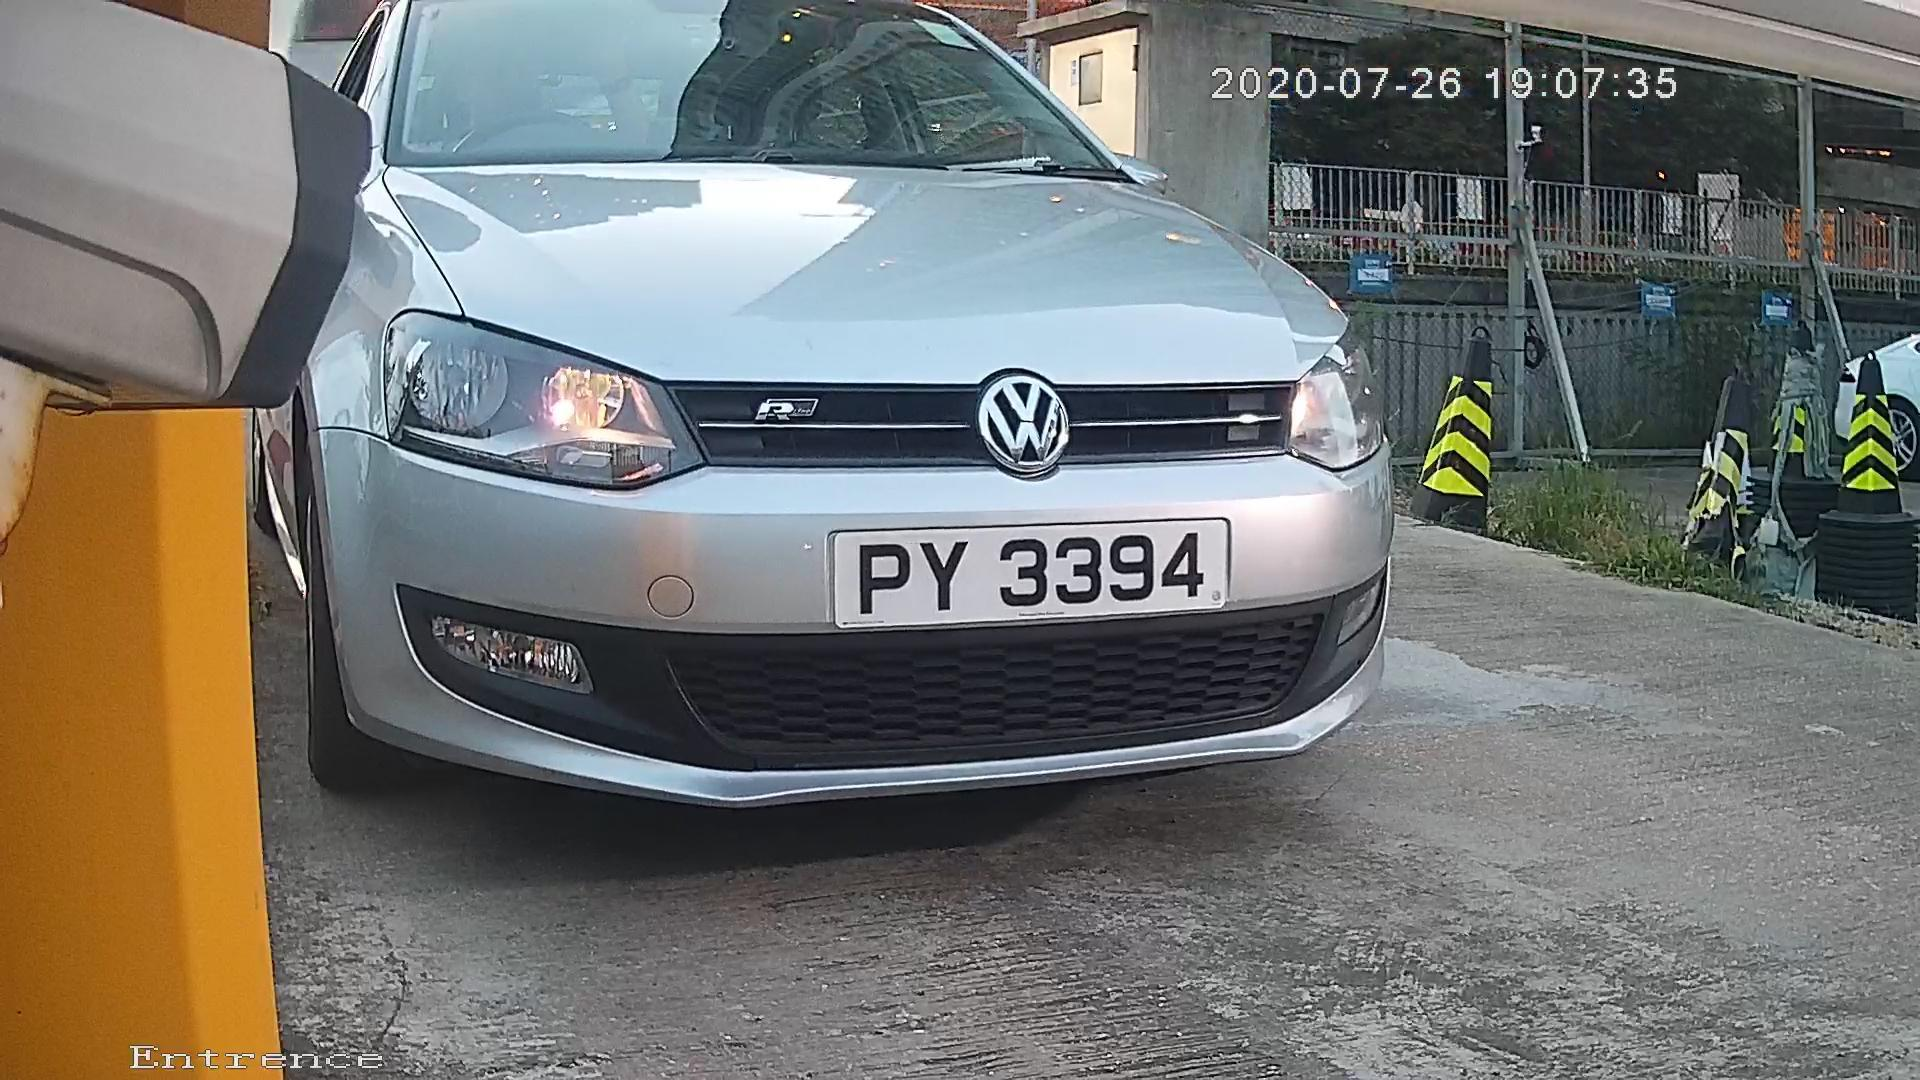License Plate: (815, 507, 1252, 627)
